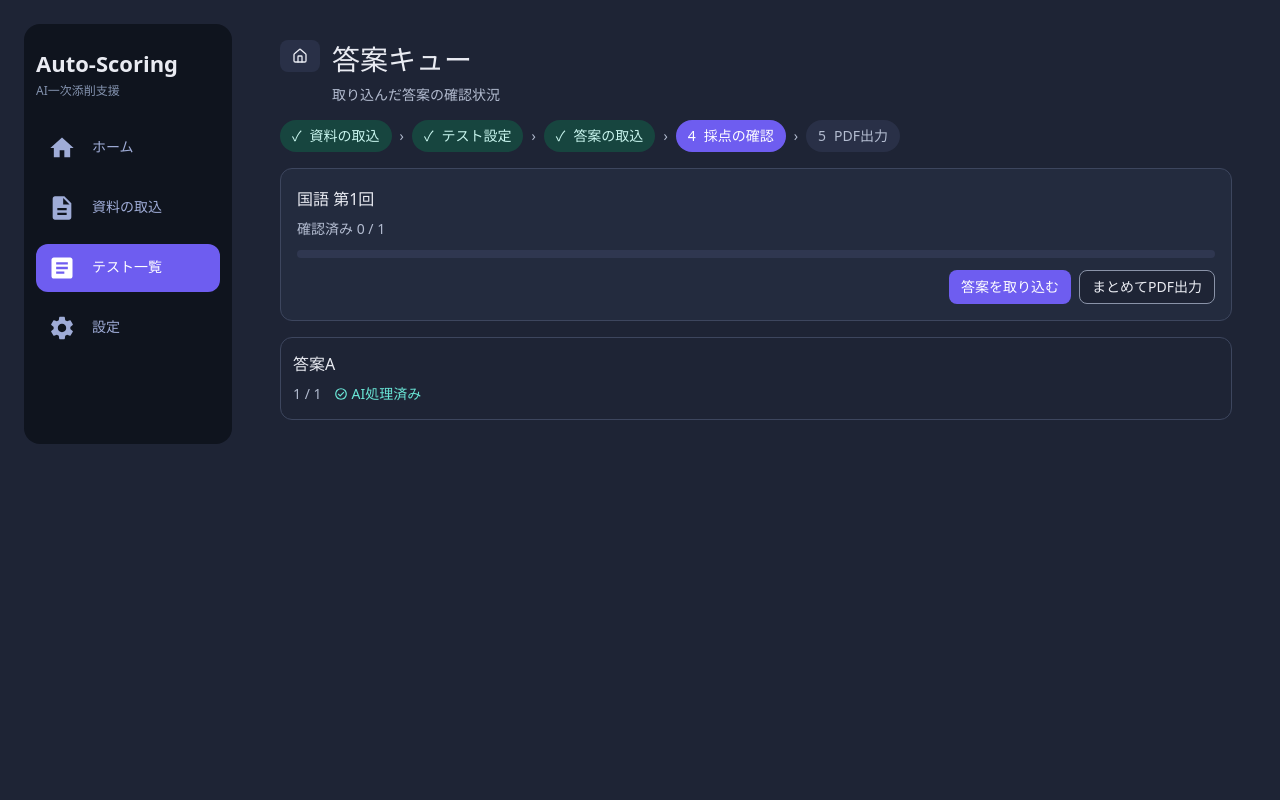
SubmissionQueuePage (Issue #113 / Issue #242 / INV-021, 140..146, 158, 159) › 行をタップすると答案確定画面を開く（設問ごと承認ではない） (INV-021)
Click the button with test id "queue-row-s1". click: point(314, 364)
box: [293,353,421,403]
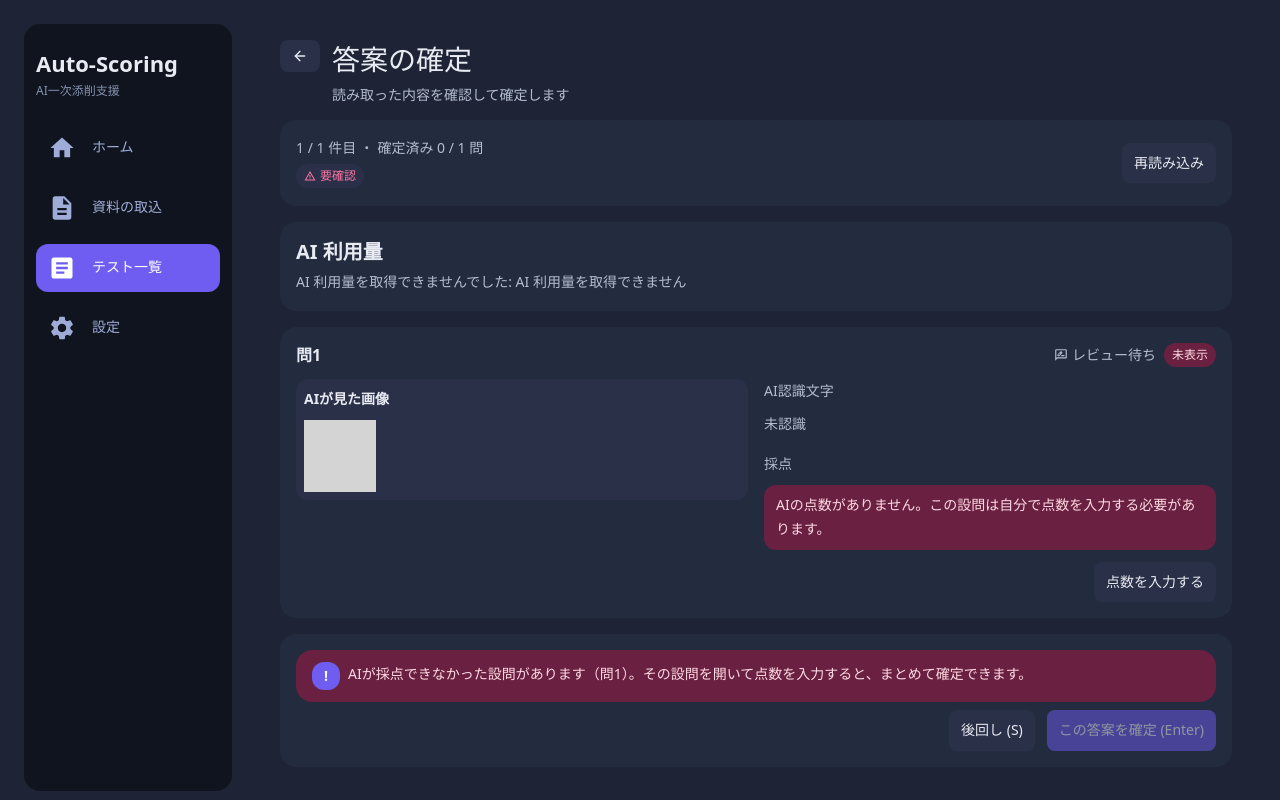
Now the element with test id "confirm-question-list" is shown, box [280,327,1232,618]
